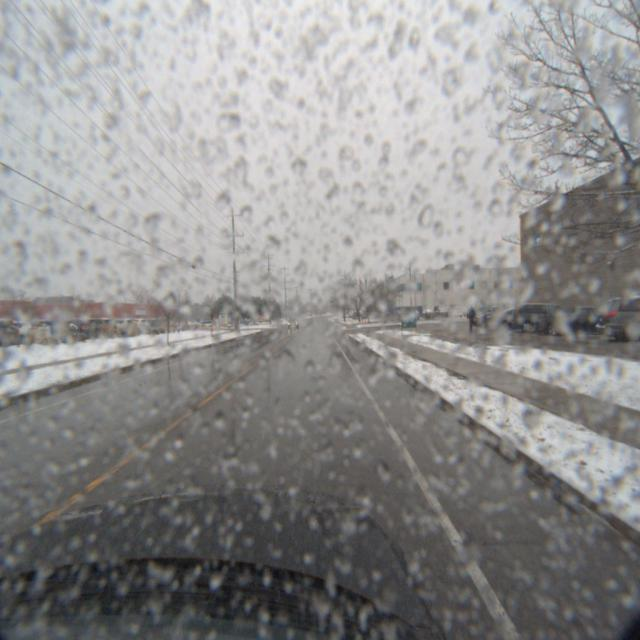Car: (528, 305, 626, 337), (506, 302, 578, 334), (484, 308, 546, 332)
